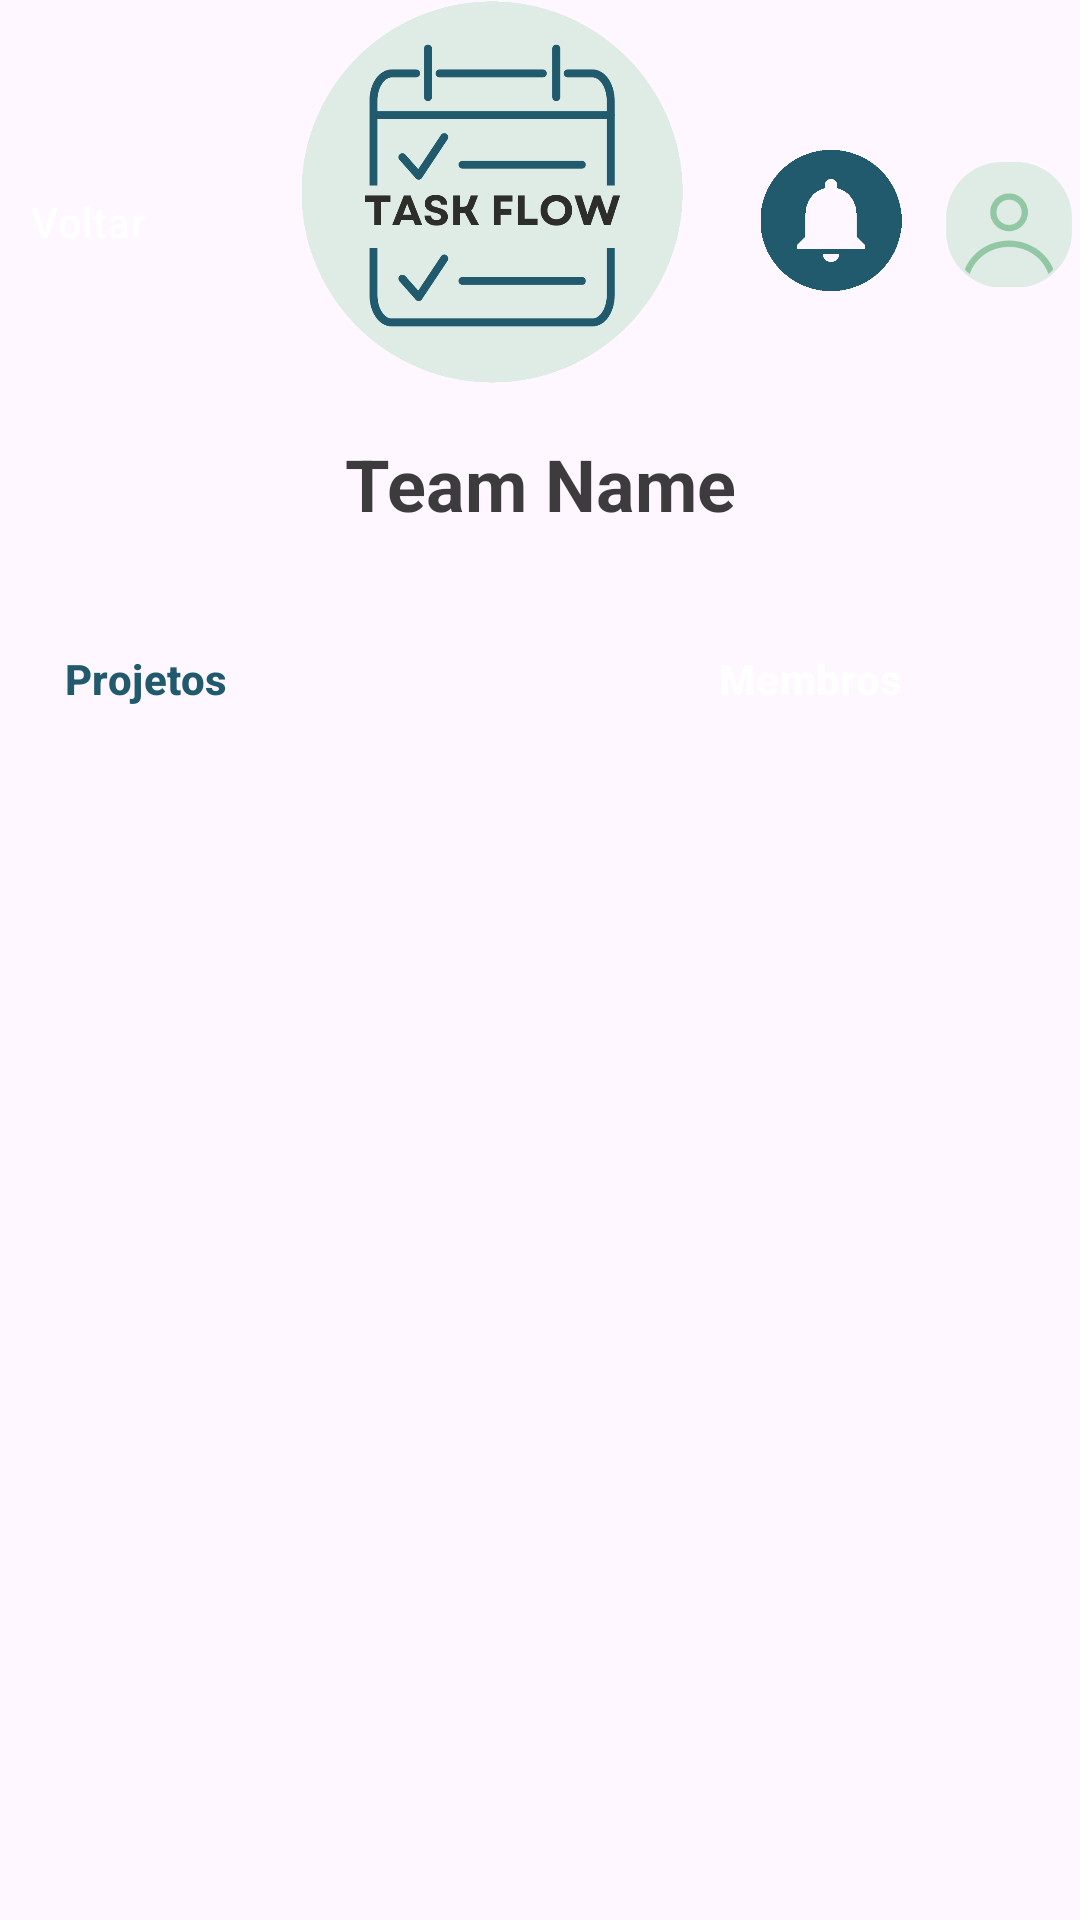

Screen size 1080px x 1920px. Icon name, then its box in pixels as bbox=[x1, y1, x2, y2]:
notificationbllue: bbox=[761, 150, 902, 291]
usertype: bbox=[946, 162, 1072, 287]
